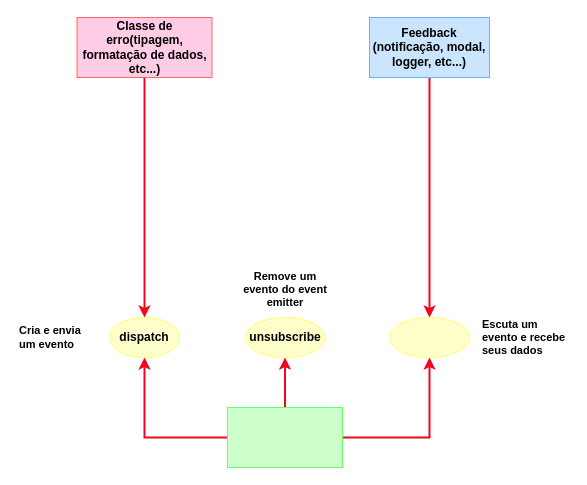
Some shapes in this 587 by 485 pixel diagram are drawn without their labels. Here are the shapes that lost their labels. From the top down, the box of each, then its label:
(388, 316, 470, 358): subscribe
(226, 406, 342, 468): EventEmitter
